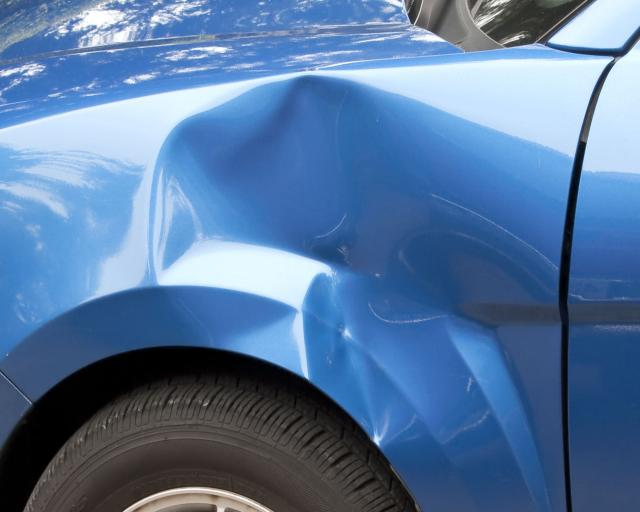dent: (146, 58, 564, 465)
